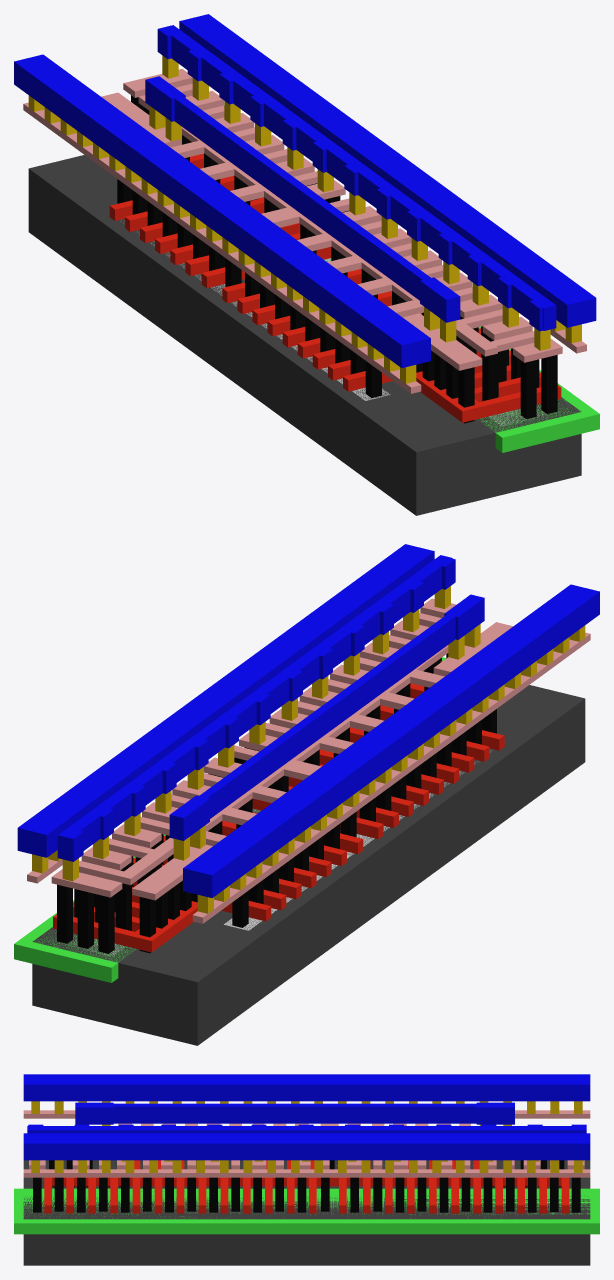
Rendered from sky130_fd_sc_hd__lpflow_clkinvkapwr_16.obj.
3 renders of one model, top to bottom at view 1: azimuth 30°, elevation 25°; view 2: azimuth 150°, elevation 25°; view 3: azimuth 270°, elevation 25°, orthographic. The views are drawn at different scales.
Visible parts, largest first — view 1: metal1, subs, li, licon, poly, mcon, nwell; view 2: metal1, subs, li, licon, mcon, poly, nwell; view 3: metal1, subs, nwell, poly, licon, li, mcon.
Boxes of the visible parts, box(x1,y1,x2,y2) form: metal1: box(14, 14, 596, 367); subs: box(28, 155, 581, 515); li: box(23, 69, 586, 393); licon: box(117, 95, 557, 423); poly: box(109, 153, 561, 422); mcon: box(28, 55, 581, 383); nwell: box(324, 258, 599, 452); metal1: box(17, 544, 599, 897); subs: box(32, 685, 585, 1045); li: box(27, 598, 590, 923); licon: box(57, 653, 496, 953); mcon: box(32, 586, 585, 913); poly: box(53, 661, 504, 952); nwell: box(14, 657, 446, 982); metal1: box(23, 1074, 590, 1160); subs: box(23, 1160, 590, 1265); nwell: box(14, 1188, 599, 1234); poly: box(44, 1160, 569, 1213); licon: box(33, 1160, 580, 1212); li: box(23, 1110, 590, 1177); mcon: box(31, 1101, 583, 1172).
Bounding box in the file's own units: 3.2 × 2.74 × 11.42.
